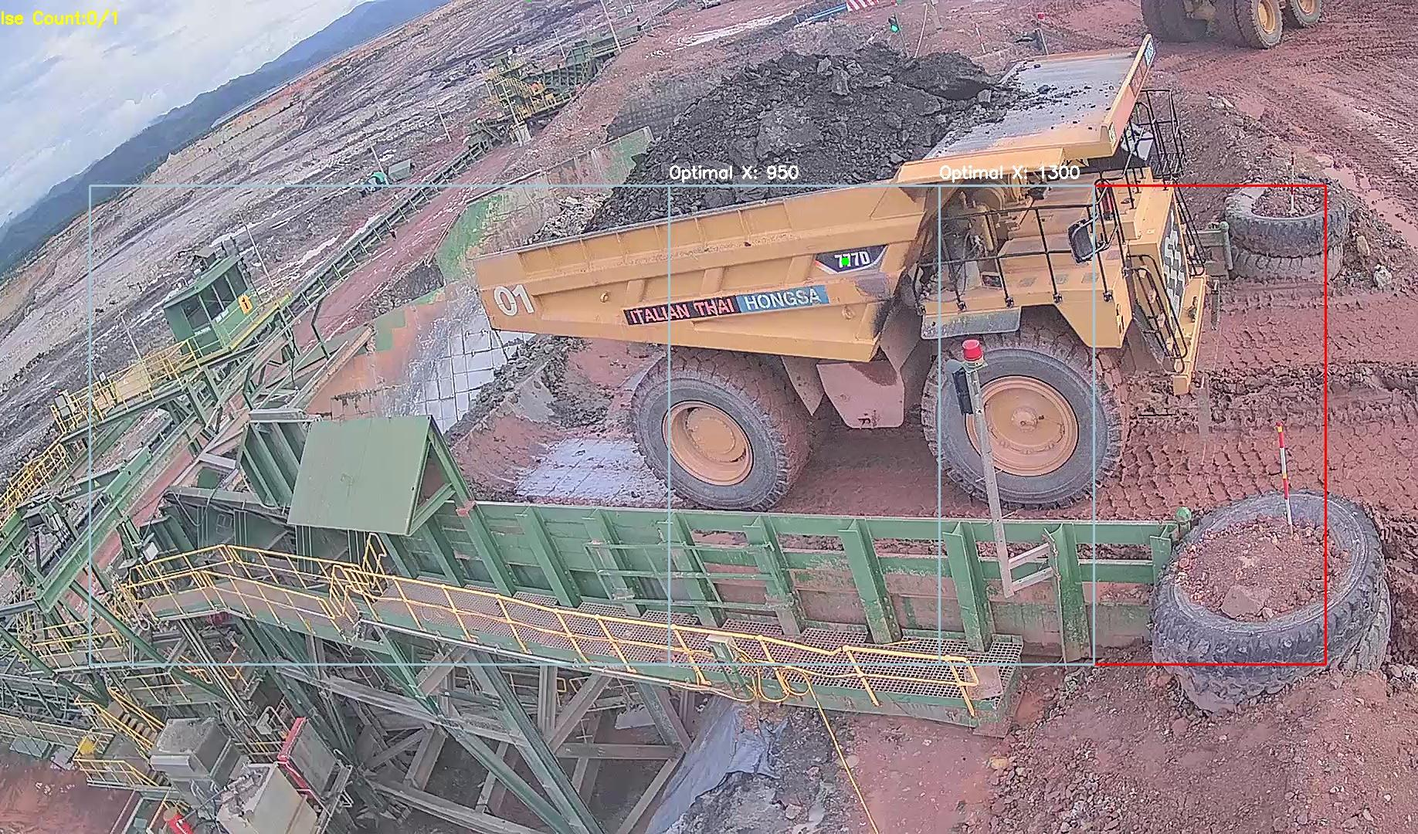company: (617, 280, 841, 334)
full_load: (632, 49, 932, 229)
mining_truck: (462, 30, 1225, 506)
tail_number: (484, 276, 542, 324)
truck_size: (809, 236, 887, 275)
